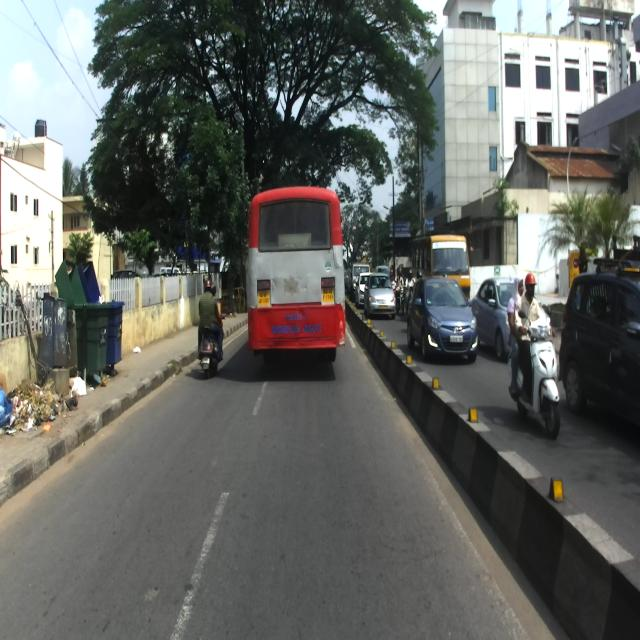bus ahead at: (249, 183, 346, 361)
dustbin ahead at: (61, 259, 130, 385)
motorcycle ahead at: (511, 312, 568, 436)
